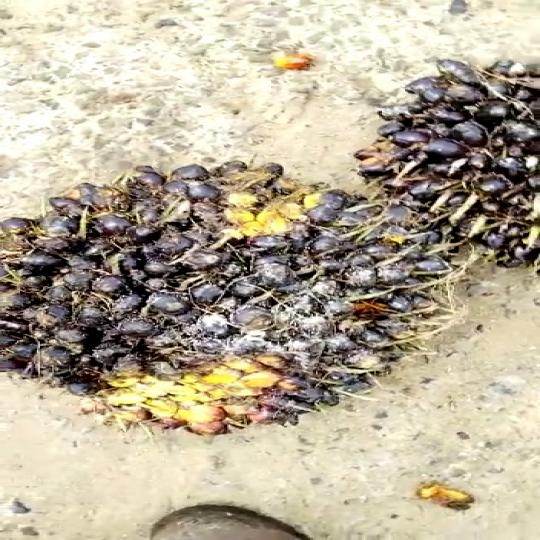mentah: (8, 154, 439, 421)
